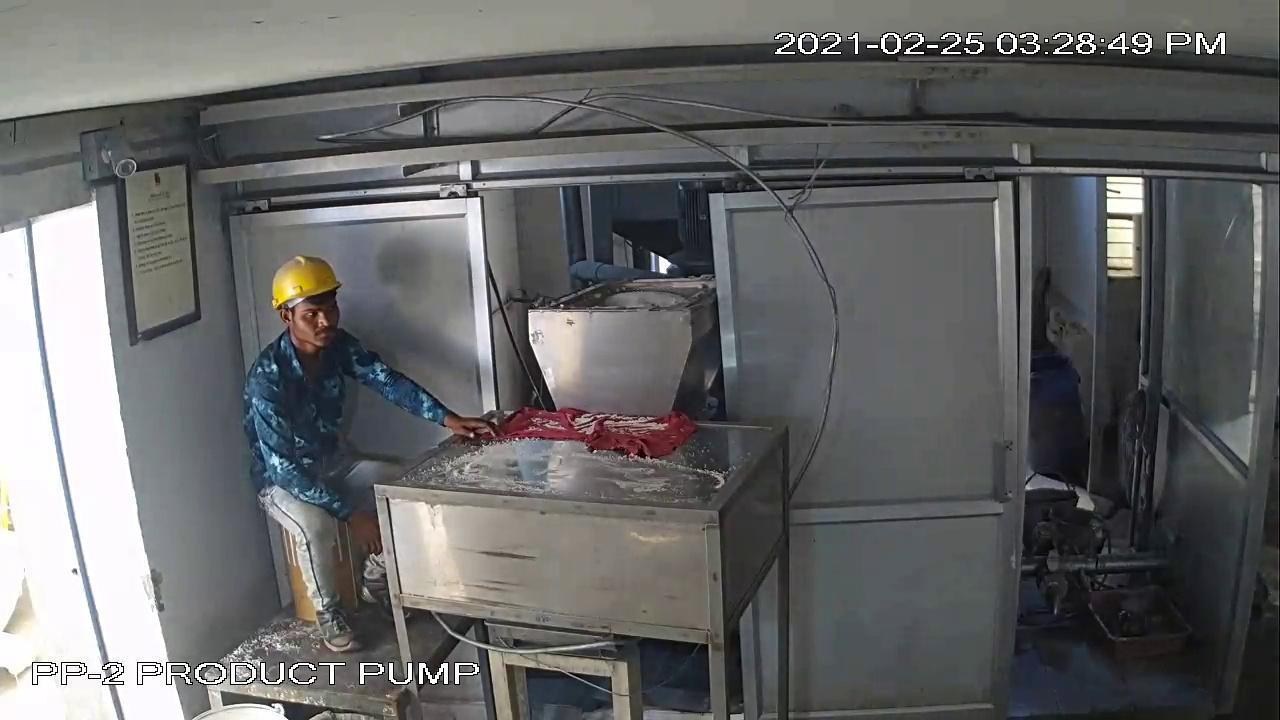helmet: (262, 246, 347, 317)
